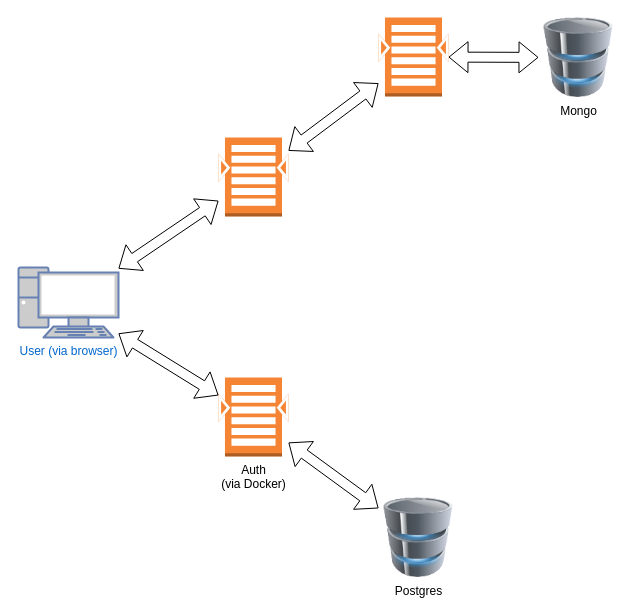
The diagram is 635 pixels wide and 616 high, and some of its shapes have lost their labels. Here are the shapes that lost their labels. From the top down, the centre of each, then its label:
At (413,56): "Logger (via Docker)".
At (253,176): "Broker (via Docker)".
